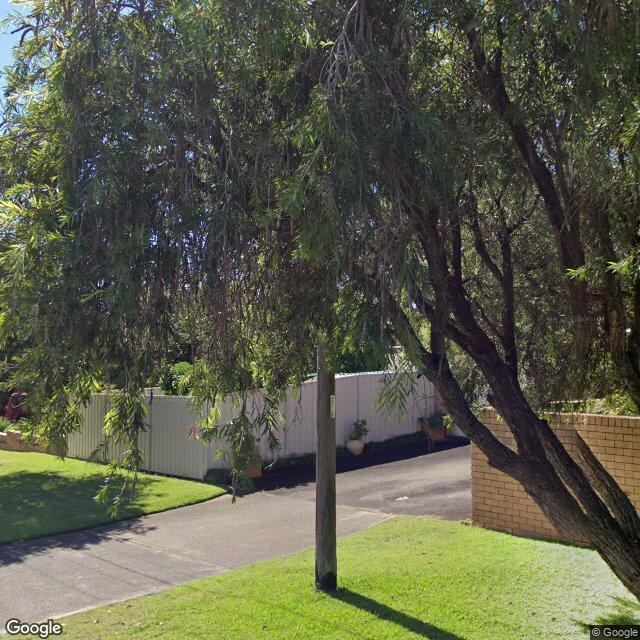timber-pole: (312, 331, 339, 595)
